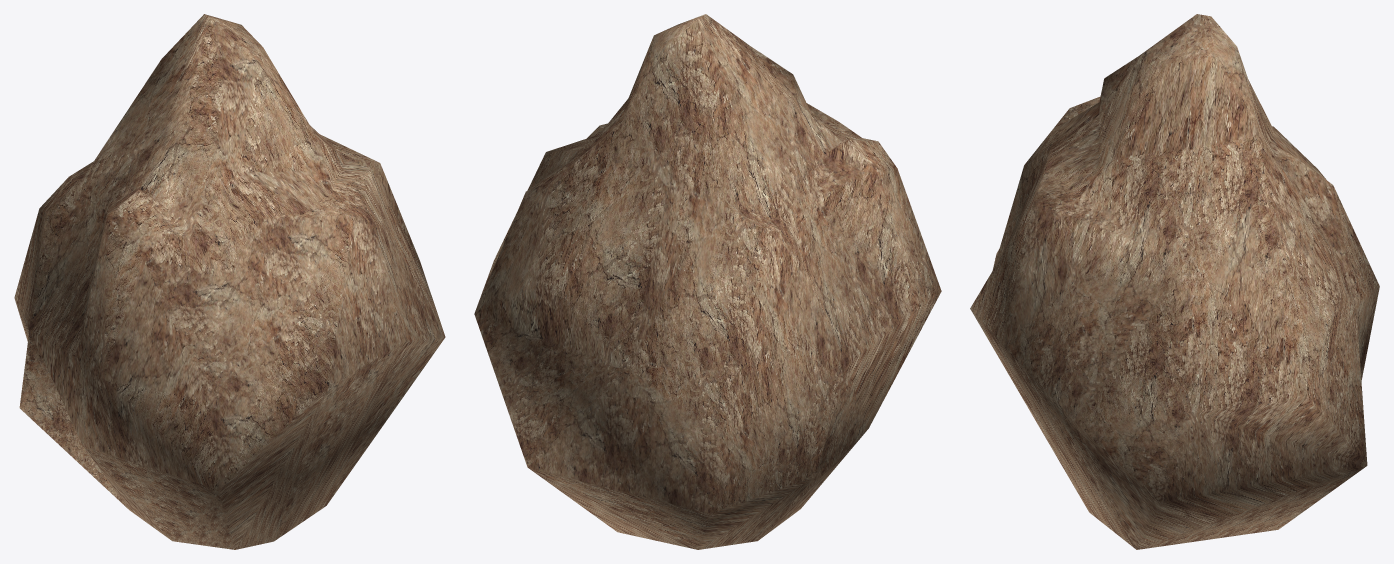
File: rock_tatt_boulder_tan_a1_l1.fbx
3 renders of one model, left to right at view 1: azimuth 30°, elevation 25°; view 2: azimuth 150°, elevation 25°; view 3: azimuth 270°, elevation 25°, orthographic. The views are drawn at different scales.
Parts seen in each view (by area): view 1: mesh_node; view 2: mesh_node; view 3: mesh_node.
Boxes of the visible parts, x1=… form: mesh_node: x1=14, y1=14, x2=445, y2=549; mesh_node: x1=474, y1=14, x2=941, y2=549; mesh_node: x1=970, y1=14, x2=1379, y2=549.
Bounding box in the file's own units: 5.44 × 6.69 × 5.04.
